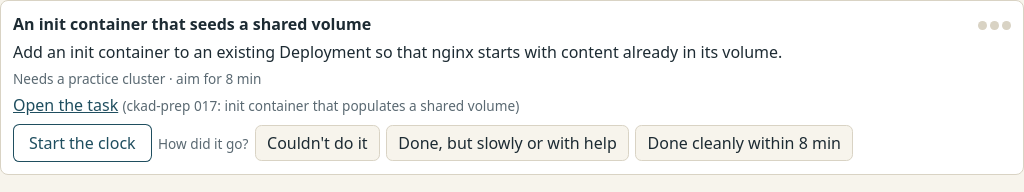
Scenario: a task › keeps time once started, against the minutes it aims for
Click the button with class "action": (82, 143) [13,124,152,162]
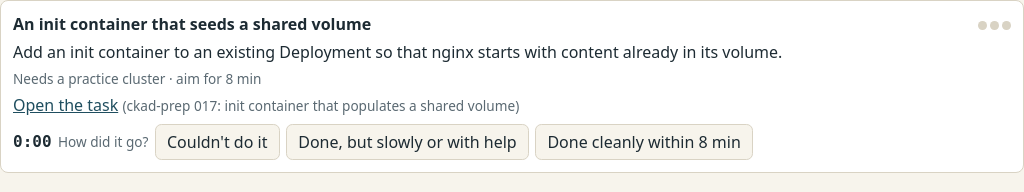
Now the text with class "clock" reads "0:00", box [13,132,52,151]
